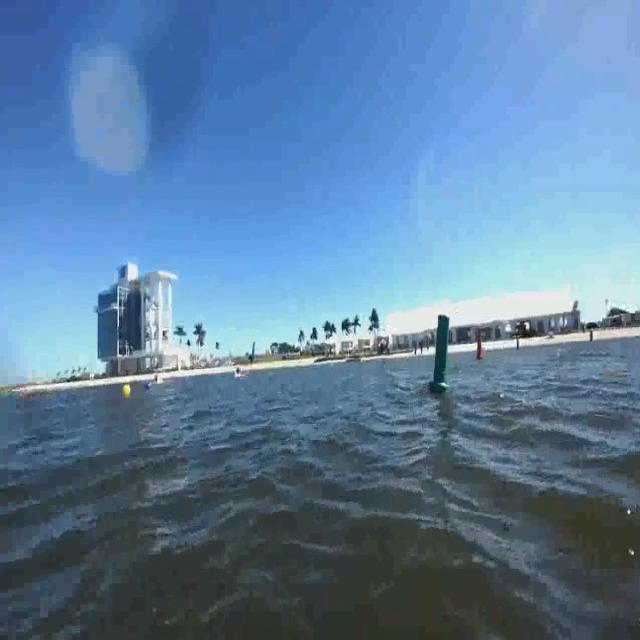green-column-buoy: (430, 311, 453, 393)
red-column-buoy: (473, 329, 484, 362)
yellow-buoy: (122, 383, 130, 400)
